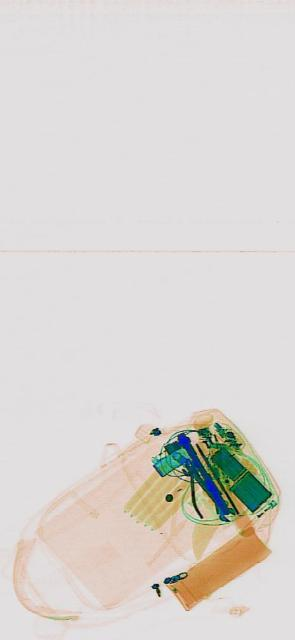Pliers: (178, 440, 219, 522)
Wrench: (174, 420, 235, 530)
